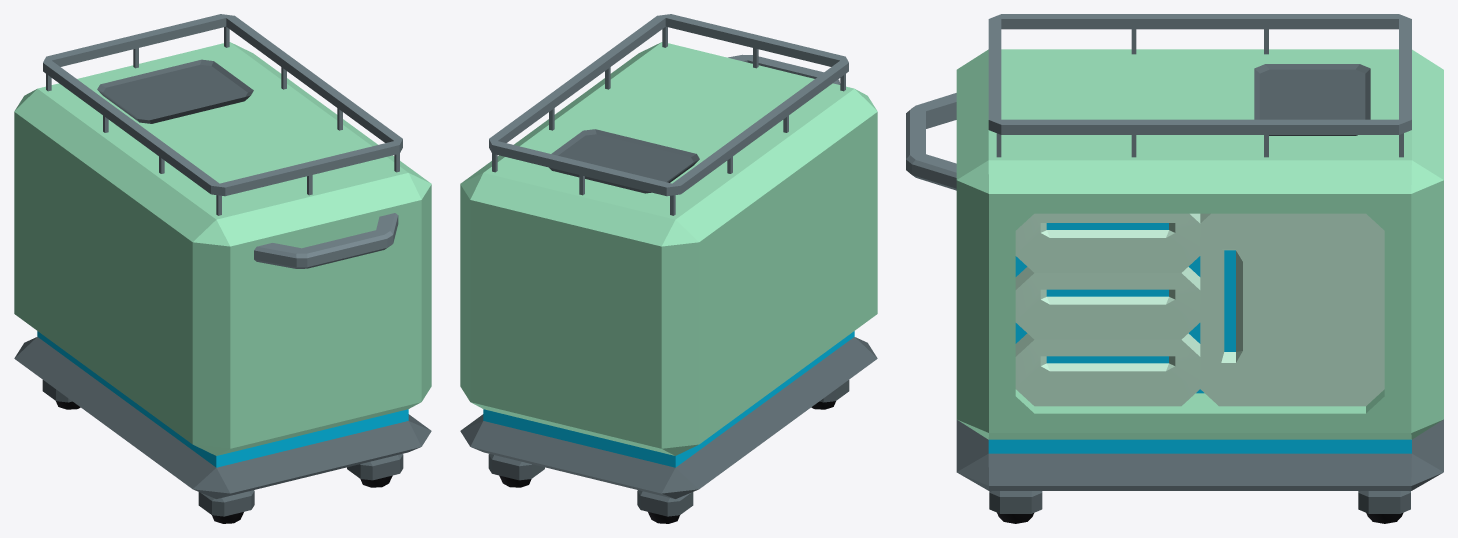
File: Medical Cart 01.fbx
3 views of the same model, side by side, from view 1: azimuth 30°, elevation 25°; view 2: azimuth 150°, elevation 25°; view 3: azimuth 270°, elevation 25° (orthographic). The views are drawn at different scales.
Parts seen in each view (by area): view 1: Medical_Cart_01; view 2: Medical_Cart_01; view 3: Medical_Cart_01.
Boxes of the visible parts, bbox=[...] form: Medical_Cart_01: bbox=[14, 14, 431, 523]; Medical_Cart_01: bbox=[460, 14, 877, 523]; Medical_Cart_01: bbox=[906, 14, 1443, 523].
Bounding box in the file's own units: 66.98 × 93.01 × 110.
